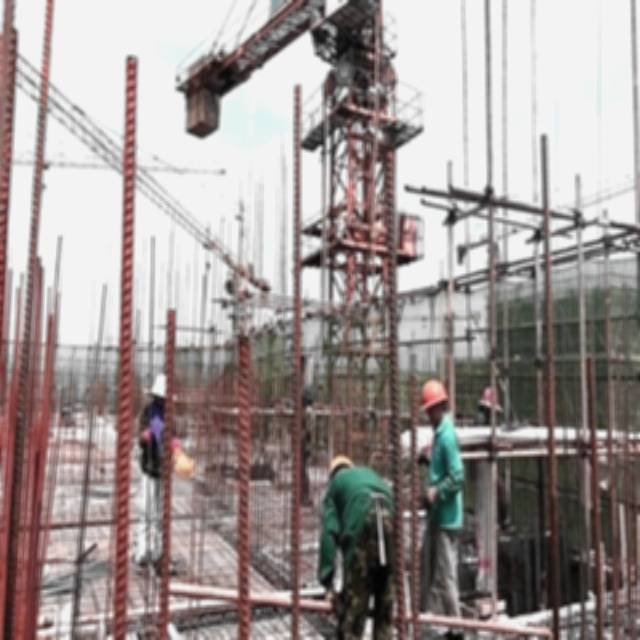Con_Casco: (421, 377, 449, 424)
